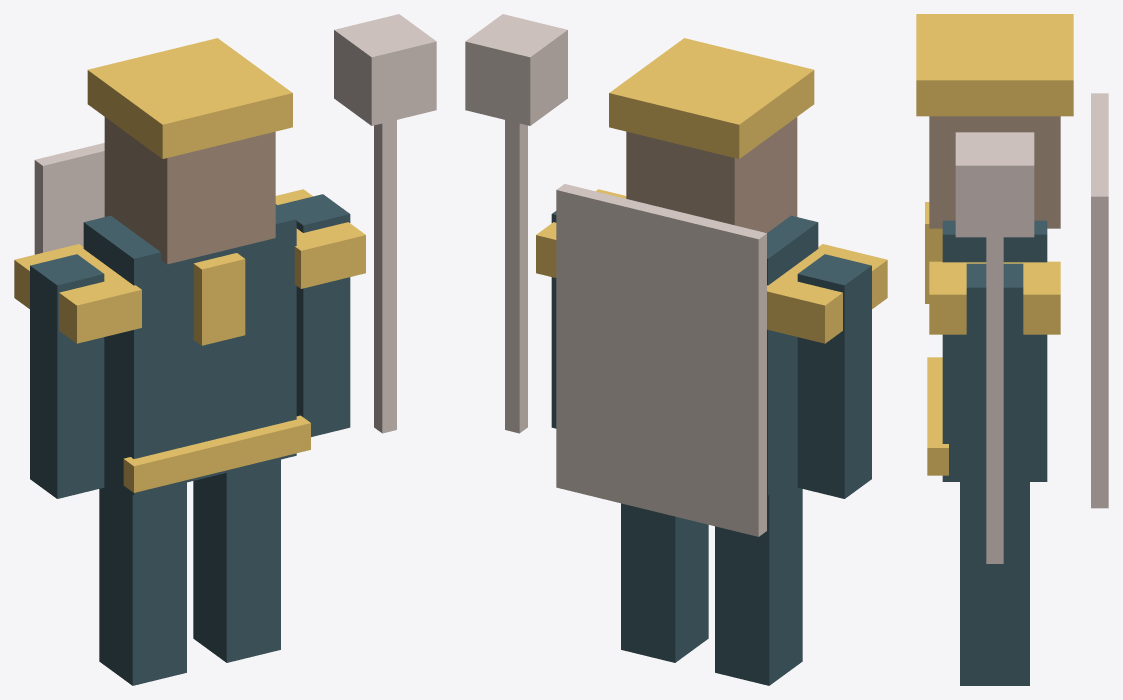
File: 18_brant_latchward_tactician_near.glb
3 views of the same model, side by side, from view 1: azimuth 30°, elevation 25°; view 2: azimuth 150°, elevation 25°; view 3: azimuth 270°, elevation 25° (orthographic). The views are drawn at different scales.
Visible parts, largest first — view 1: Brant Latchward, Tactician near; view 2: Brant Latchward, Tactician near; view 3: Brant Latchward, Tactician near.
Boxes of the visible parts, bbox=[...] form: Brant Latchward, Tactician near: bbox=[14, 14, 436, 685]; Brant Latchward, Tactician near: bbox=[465, 14, 887, 685]; Brant Latchward, Tactician near: bbox=[916, 14, 1108, 685].
Bounding box in the file's own units: 1.08 × 1.58 × 0.458.
